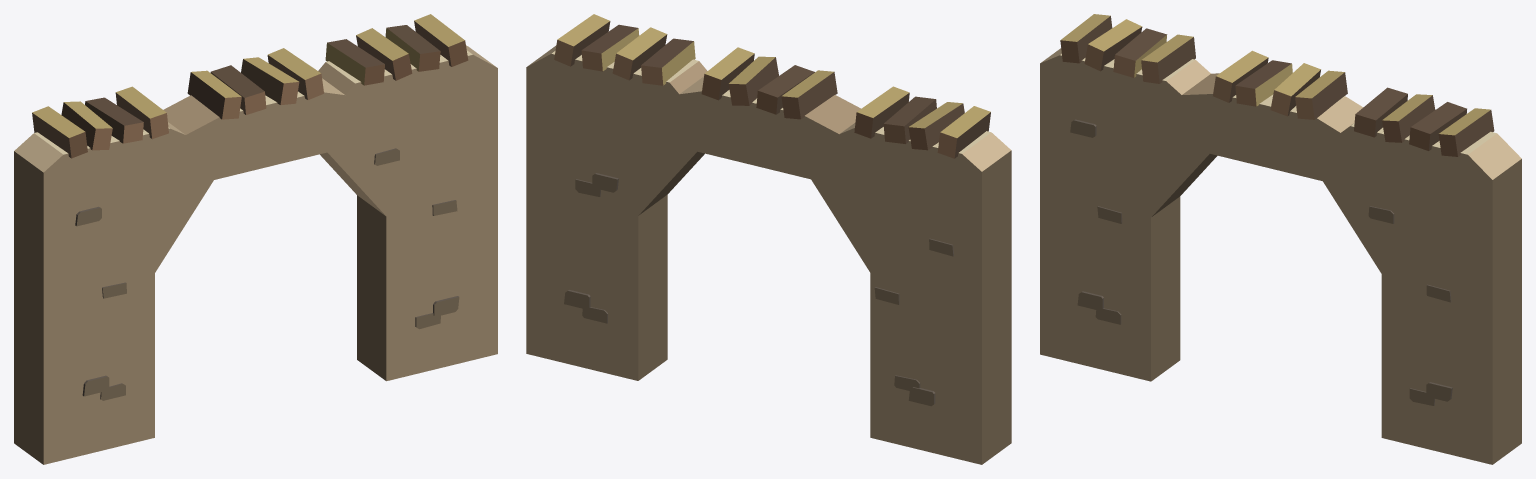
Rendered from TB_D_Bd_Gate_A.FBX.
3 renders of one model, left to right at view 1: azimuth 30°, elevation 25°; view 2: azimuth 150°, elevation 25°; view 3: azimuth 330°, elevation 25°, orthographic.
Visible parts, largest first — view 1: TB_D_Bd_Gate_A; view 2: TB_D_Bd_Gate_A; view 3: TB_D_Bd_Gate_A.
Boxes of the visible parts, x1,y1,x2,y2 form: TB_D_Bd_Gate_A: (14,14,497,464); TB_D_Bd_Gate_A: (526,14,1011,464); TB_D_Bd_Gate_A: (1040,14,1521,464).
Bounding box in the file's own units: 6.23 × 4.27 × 0.8679.
